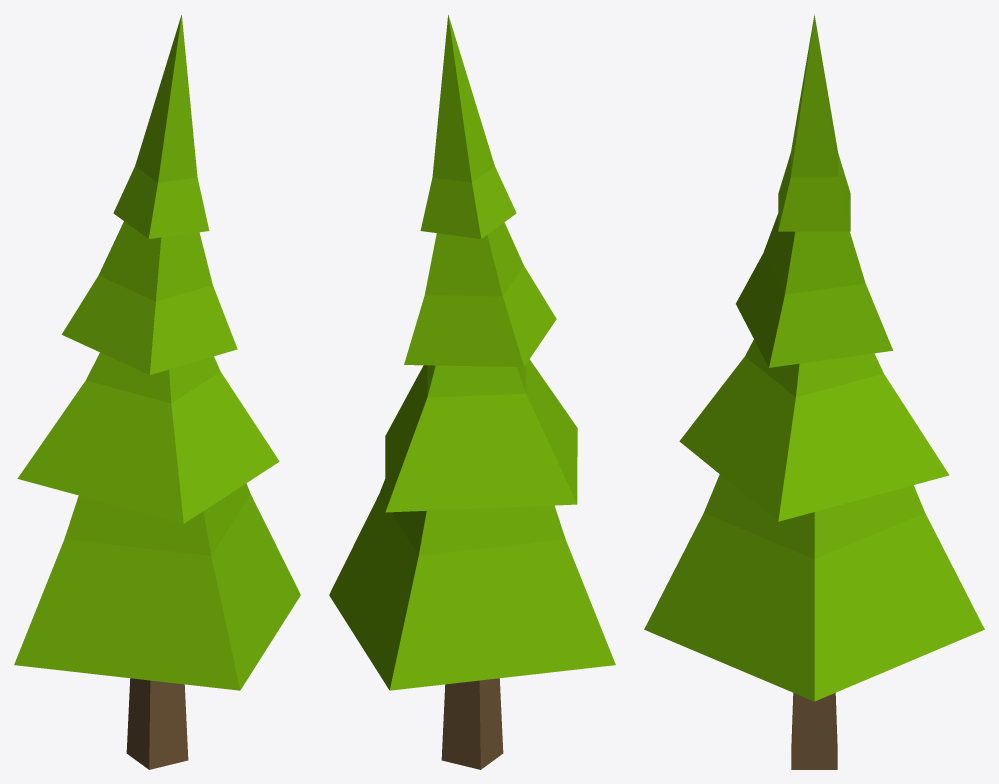
The model's file is Pine01.fbx.
The picture shows the model from 3 angles, left to right: view 1: azimuth 30°, elevation 25°; view 2: azimuth 150°, elevation 25°; view 3: azimuth 270°, elevation 25°; orthographic projection. The views are drawn at different scales.
Parts seen in each view (by area): view 1: Pine01_LOD0; view 2: Pine01_LOD0; view 3: Pine01_LOD0.
Boxes of the visible parts, left/top/right/bottom form: Pine01_LOD0: left=14, top=15, right=300, bottom=769; Pine01_LOD0: left=329, top=15, right=615, bottom=769; Pine01_LOD0: left=644, top=14, right=984, bottom=769.
Size of what is drawn, in the model's own units: 407 by 998 by 407.
